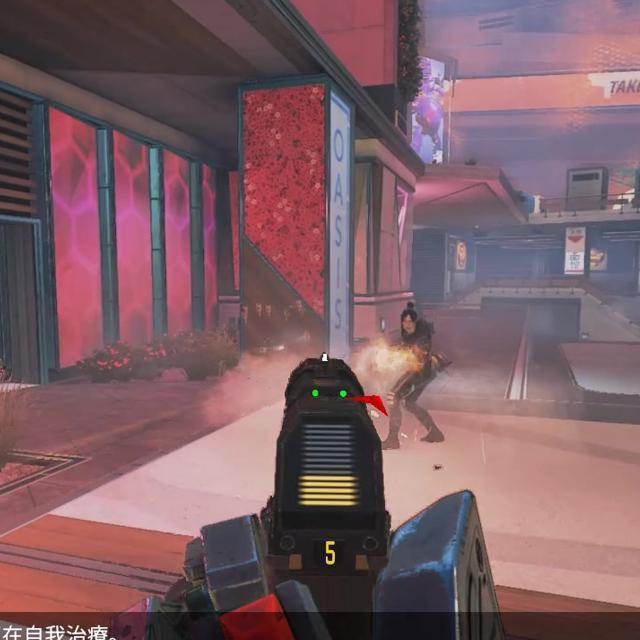avatar: (381, 299, 453, 451)
